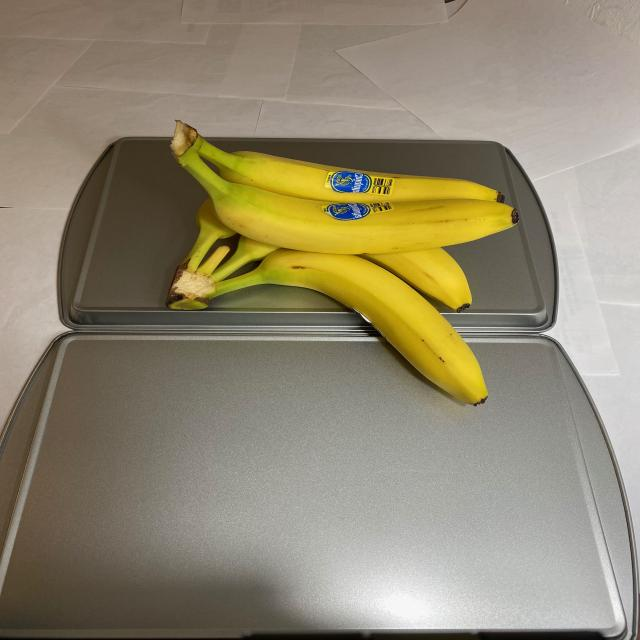banana: (157, 118, 521, 414)
